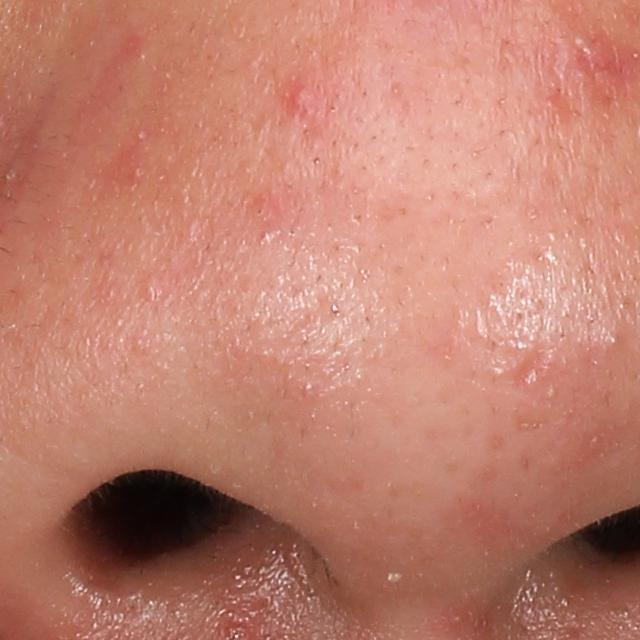atrophic_scar: (504, 346, 552, 392)
comedo: (598, 325, 623, 350), (136, 279, 162, 301)
papule: (550, 30, 626, 96), (284, 81, 330, 127)
